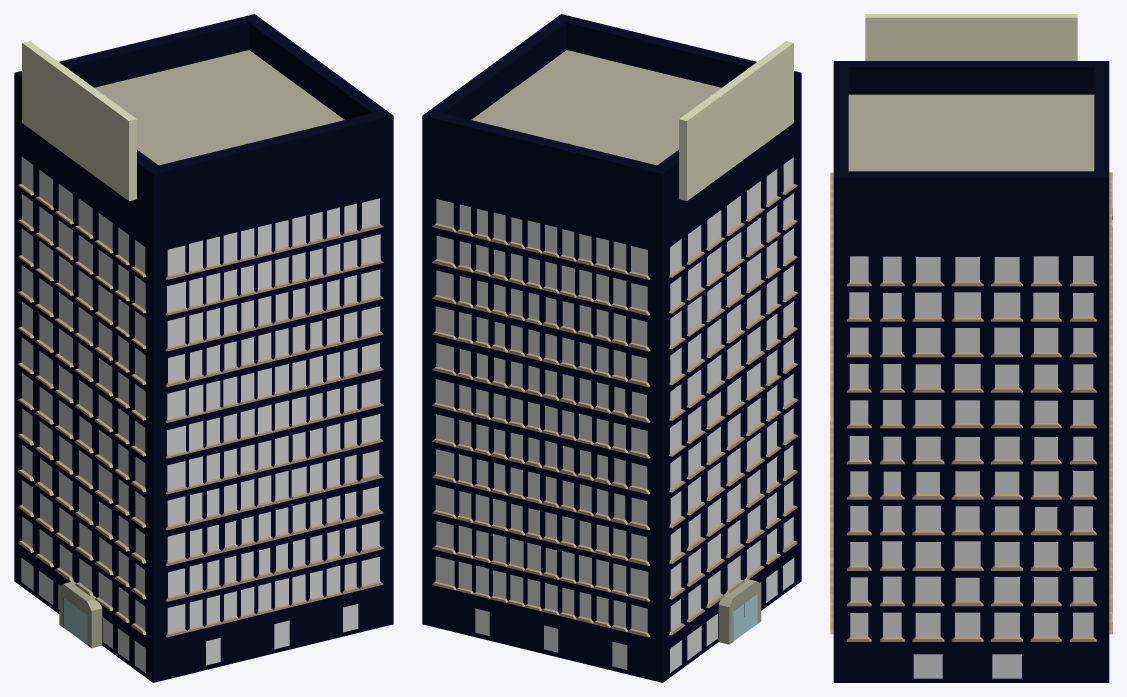
The model's file is Building.fbx.
The picture shows the model from 3 angles, left to right: view 1: azimuth 30°, elevation 25°; view 2: azimuth 150°, elevation 25°; view 3: azimuth 270°, elevation 25°; orthographic projection.
Visible parts, largest first — view 1: Building; view 2: Building; view 3: Building.
Part boxes in pixels (x1,y1,x2,y2): Building: (14,14,393,682); Building: (422,14,801,682); Building: (830,14,1112,682).
Bounding box in the file's own units: 213 × 440 × 205.
